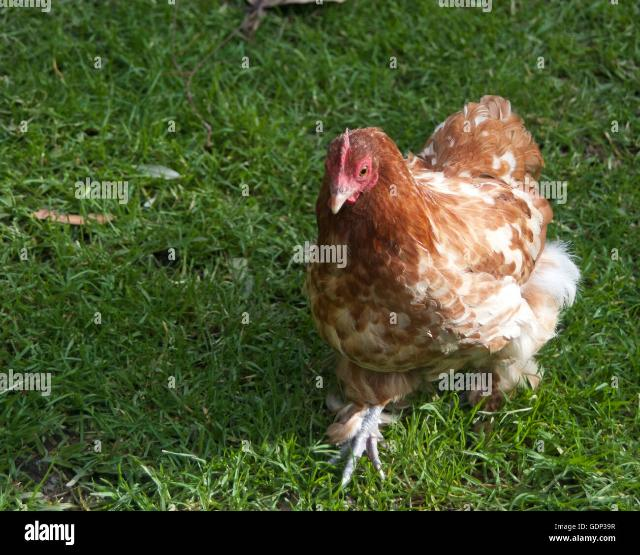Chicken: (305, 94, 579, 487)
